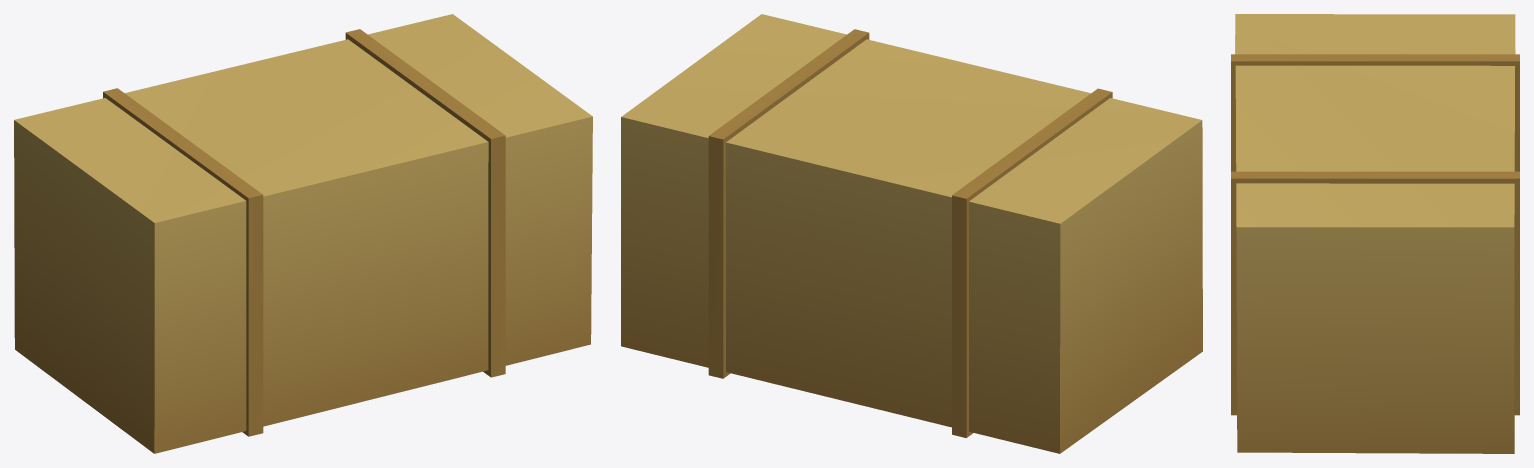
File: hay_bale.glb
The picture shows the model from 3 angles, left to right: view 1: azimuth 30°, elevation 25°; view 2: azimuth 150°, elevation 25°; view 3: azimuth 270°, elevation 25°; orthographic projection.
Visible parts, largest first — view 1: HayBale; view 2: HayBale; view 3: HayBale.
Part boxes in pixels (left/top/right/bottom): HayBale: left=14, top=14, right=592, bottom=453; HayBale: left=621, top=14, right=1202, bottom=453; HayBale: left=1231, top=14, right=1519, bottom=453.
Bounding box in the file's own units: 0.9056 × 0.47 × 0.52.
